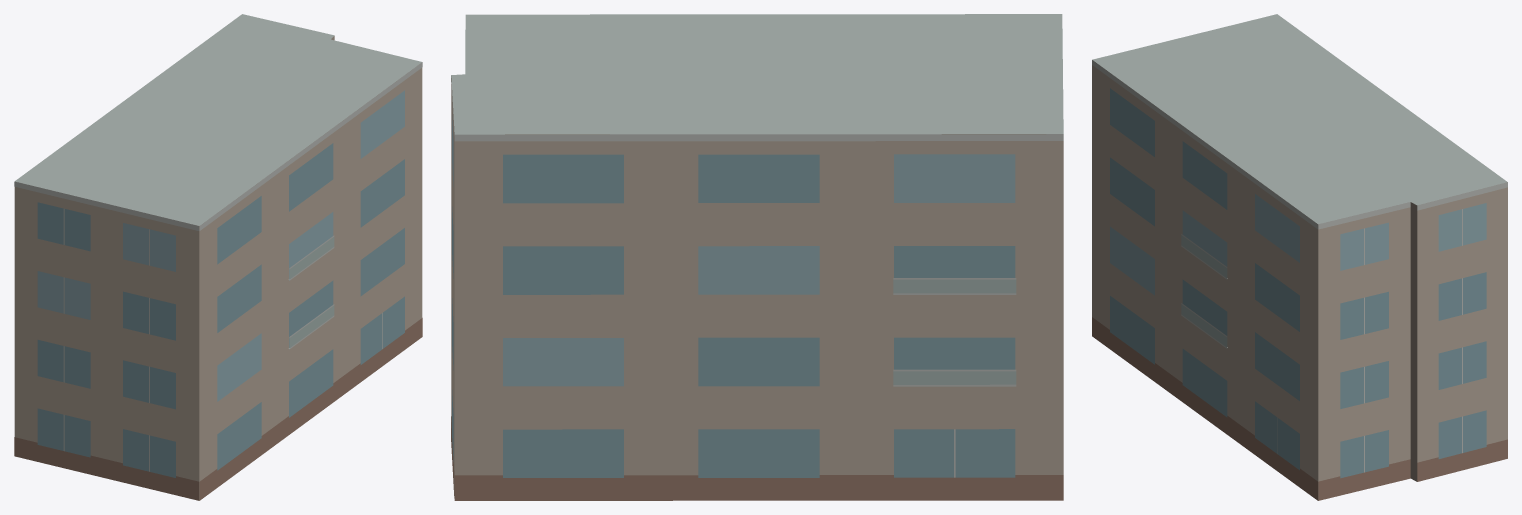
Rendered from survey-upis-32628509.glb.
3 views of the same model, side by side, from view 1: azimuth 30°, elevation 25°; view 2: azimuth 150°, elevation 25°; view 3: azimuth 270°, elevation 25° (orthographic). The views are drawn at different scales.
Parts seen in each view (by area): view 1: survey-upis-32628509.tmp; view 2: survey-upis-32628509.tmp; view 3: survey-upis-32628509.tmp.
Part boxes in pixels (x1=…): survey-upis-32628509.tmp: x1=14, y1=14, x2=422, y2=500; survey-upis-32628509.tmp: x1=451, y1=14, x2=1063, y2=500; survey-upis-32628509.tmp: x1=1092, y1=14, x2=1507, y2=500.
Size of the model in its own units: 20.88 by 12.8 by 17.45.
